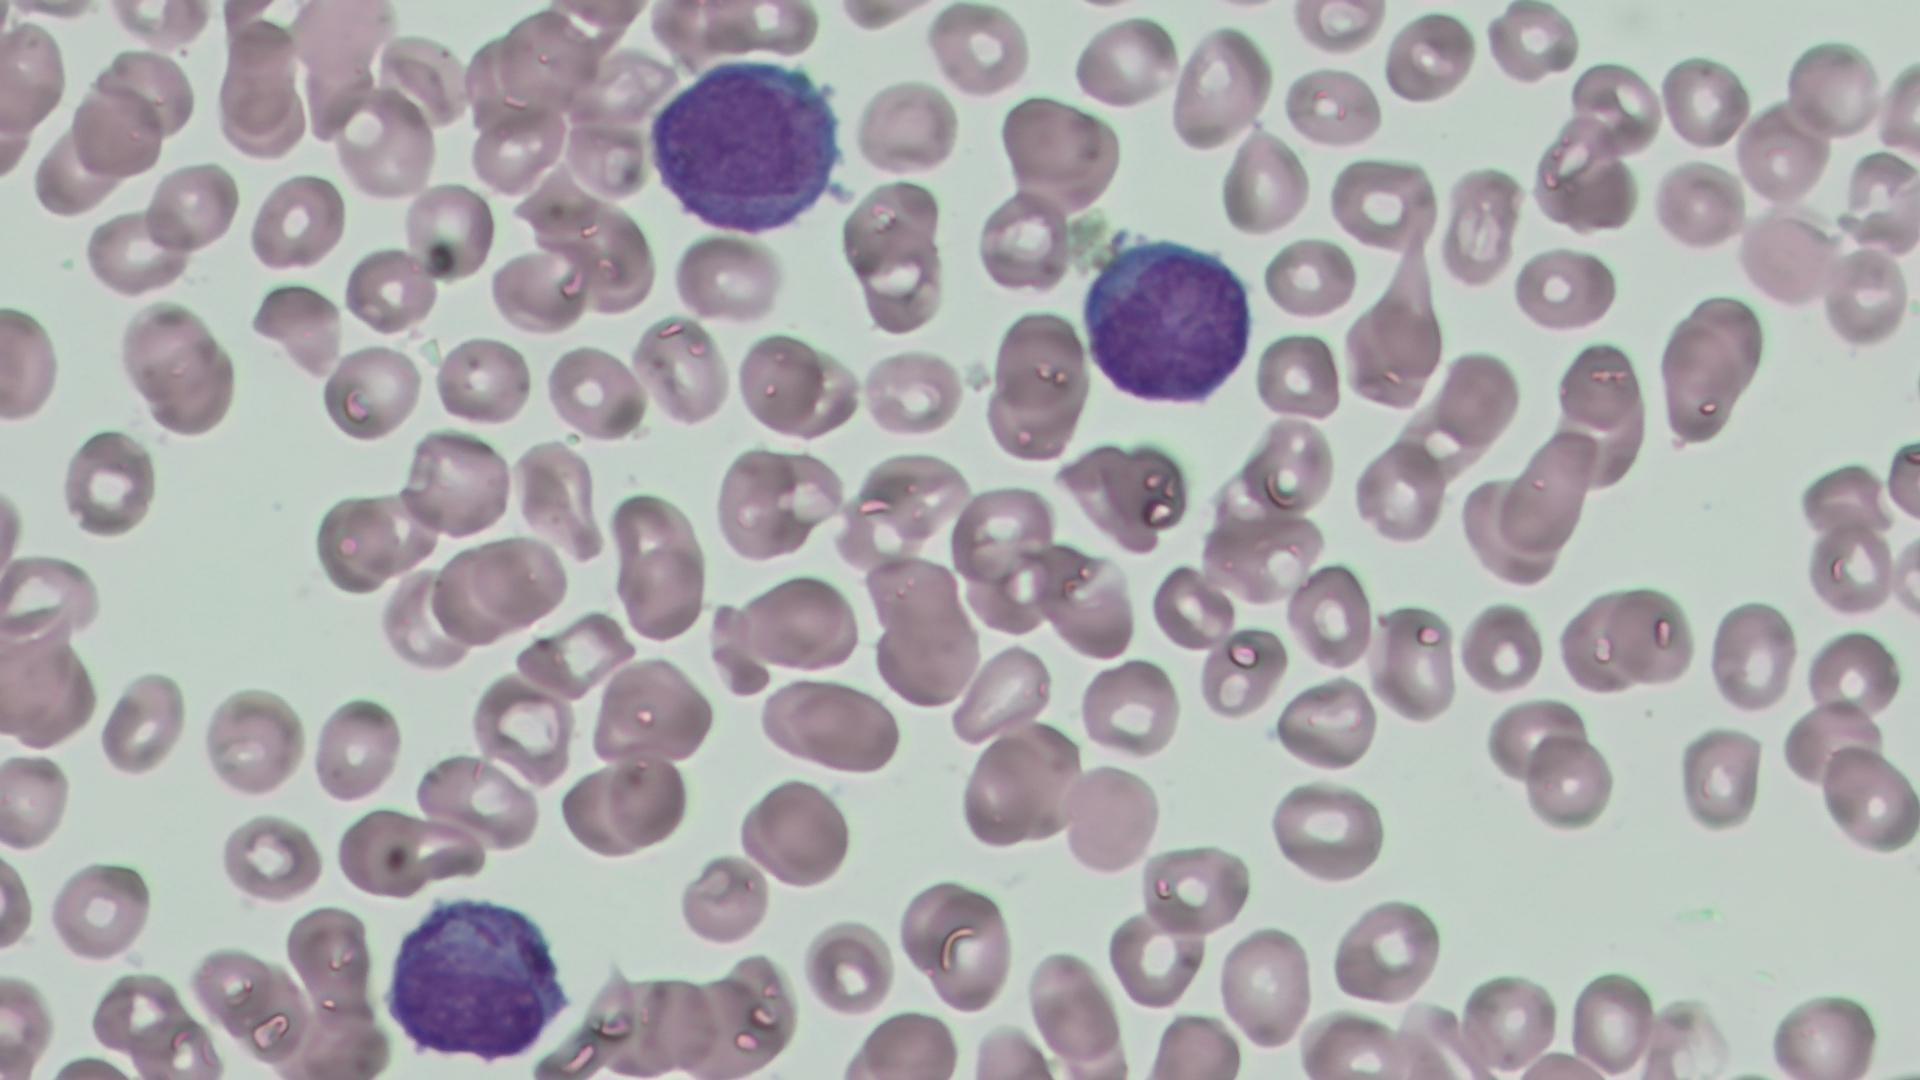RBC: (589, 651, 717, 770), (711, 440, 833, 562), (736, 773, 852, 890), (411, 749, 543, 851), (1216, 922, 1317, 1054), (1329, 893, 1444, 1009), (1269, 775, 1389, 886), (331, 80, 440, 202), (1168, 21, 1270, 152), (916, 884, 1015, 1015), (200, 682, 307, 800), (988, 302, 1092, 423), (469, 675, 578, 791), (997, 92, 1117, 196), (404, 427, 512, 541), (512, 436, 607, 564), (629, 313, 735, 427), (1062, 760, 1163, 878), (3, 628, 99, 752), (1762, 985, 1888, 1079), (1366, 600, 1460, 727), (852, 73, 963, 179), (1036, 549, 1139, 663), (744, 574, 862, 673), (1325, 152, 1439, 255), (59, 426, 158, 543), (46, 857, 153, 964), (117, 295, 220, 406), (1782, 32, 1884, 142), (1820, 740, 1917, 856), (782, 678, 899, 774), (1456, 967, 1560, 1075), (1105, 901, 1208, 1010), (1139, 839, 1253, 938), (427, 541, 534, 645), (944, 484, 1054, 585), (320, 342, 425, 447), (137, 332, 240, 439), (247, 167, 348, 276), (1706, 596, 1797, 716), (309, 691, 404, 806), (1077, 657, 1182, 761), (1273, 673, 1379, 774), (926, 1, 1034, 102), (669, 232, 786, 324), (975, 187, 1071, 299), (80, 206, 194, 301), (951, 641, 1054, 745), (543, 340, 649, 442), (514, 611, 632, 702), (856, 344, 967, 440), (99, 666, 190, 782), (401, 177, 498, 285), (1437, 162, 1520, 289), (1220, 125, 1312, 239), (1735, 99, 1832, 207), (1352, 436, 1447, 546), (1071, 13, 1178, 109), (284, 898, 375, 1010), (555, 760, 655, 861), (1568, 57, 1664, 162), (216, 808, 322, 905), (1522, 731, 1618, 836), (1659, 324, 1741, 448), (1552, 585, 1646, 694), (1484, 696, 1593, 789), (3, 550, 102, 651), (1803, 624, 1902, 725), (1658, 50, 1754, 154), (1677, 723, 1764, 837), (488, 243, 596, 335), (1564, 964, 1654, 1075), (1734, 210, 1836, 307), (1604, 582, 1695, 690), (1510, 243, 1618, 334), (1283, 560, 1371, 670), (1382, 7, 1480, 105), (1820, 243, 1912, 347), (310, 489, 400, 596), (960, 741, 1047, 851), (340, 243, 440, 338), (735, 331, 825, 434), (1250, 411, 1337, 518), (472, 531, 568, 628), (433, 335, 531, 429), (1280, 62, 1385, 150), (1652, 156, 1749, 251), (597, 752, 692, 848), (330, 803, 426, 895), (145, 162, 241, 255), (1804, 520, 1894, 618), (616, 545, 707, 641), (1251, 328, 1342, 425), (1455, 597, 1545, 692), (1261, 233, 1358, 322), (1556, 335, 1642, 435), (1197, 626, 1284, 724), (1840, 150, 1920, 255), (1149, 560, 1234, 654), (0, 302, 65, 425), (1484, 1, 1580, 82), (0, 18, 69, 131), (0, 749, 73, 853), (1800, 458, 1890, 538), (0, 965, 58, 1075), (1147, 1011, 1241, 1077), (1288, 0, 1390, 57), (0, 845, 37, 959), (1878, 434, 1920, 526), (1882, 534, 1920, 626)
WBC: (644, 55, 852, 239), (367, 889, 578, 1065), (1076, 232, 1262, 411)
